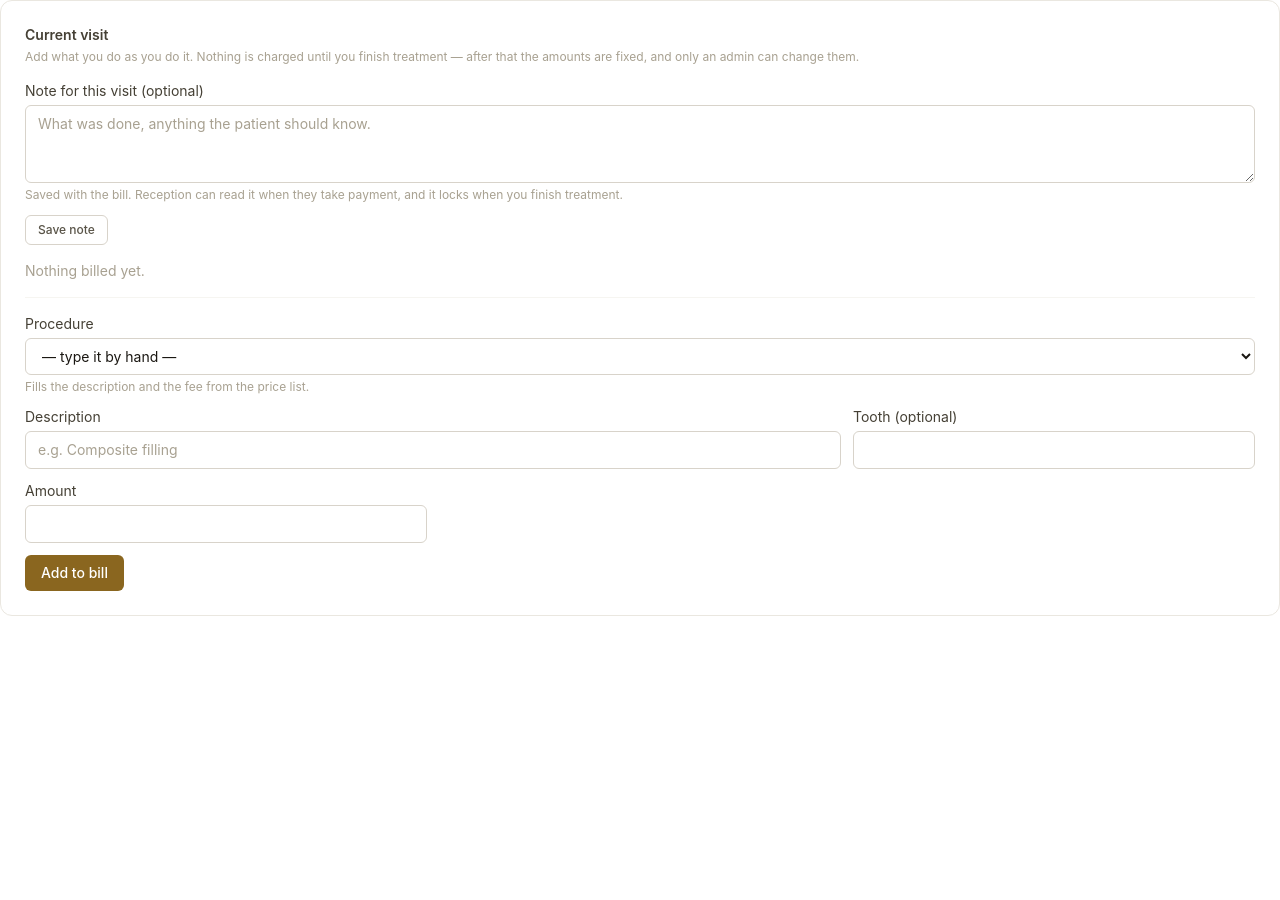
ChairsideBilling › surfaces a refusal from the database
The width and height of the screenshot is (1280, 900).
Expected: the text "Nothing billed yet." is shown, [25,262,145,279]
Type "Too late" into the field labelled "Description".
click(433, 450); type("Too late")  # box [25,431,841,469]
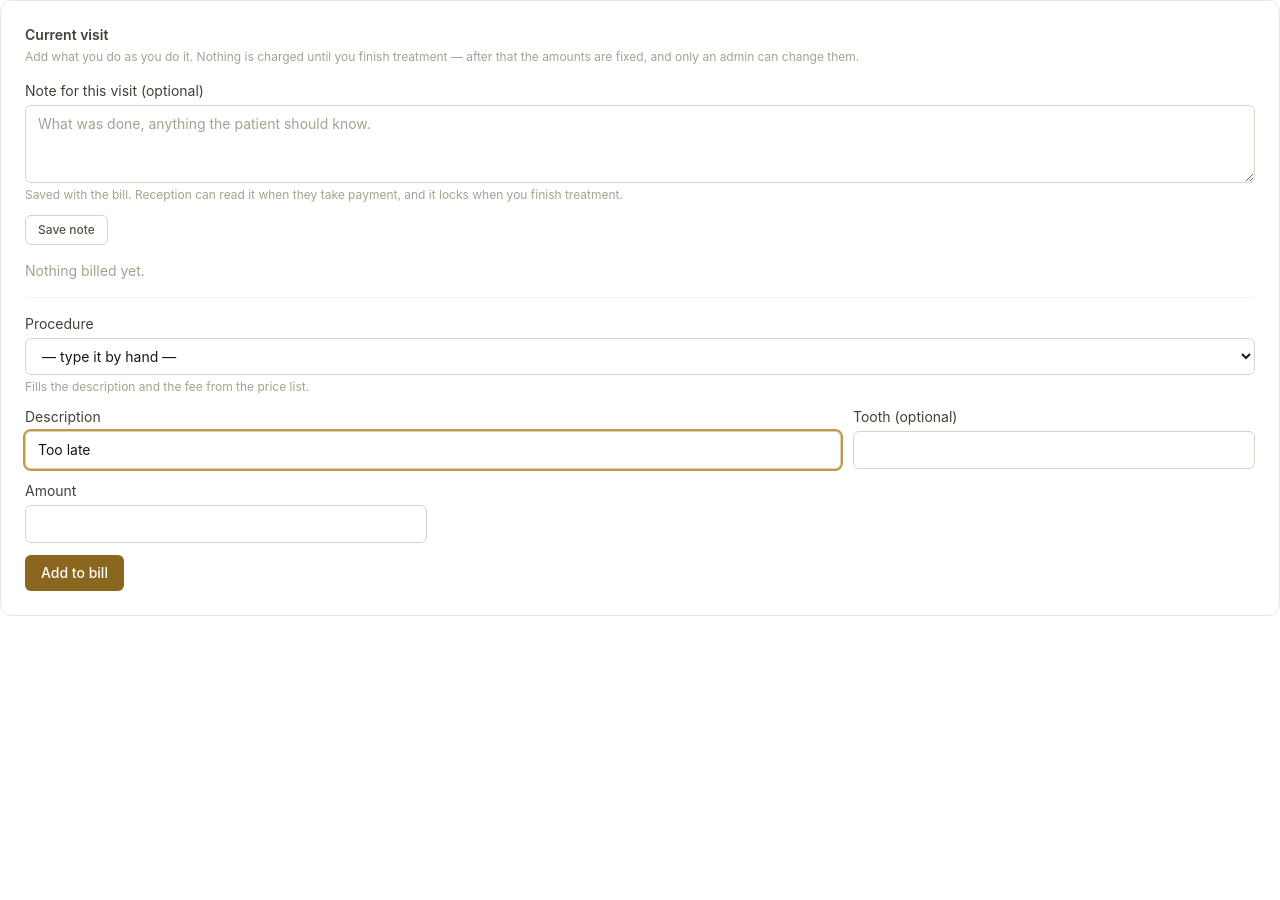
Type "500" into the number field labelled "Amount".
click(226, 524); type("500")  # box [25,505,427,543]
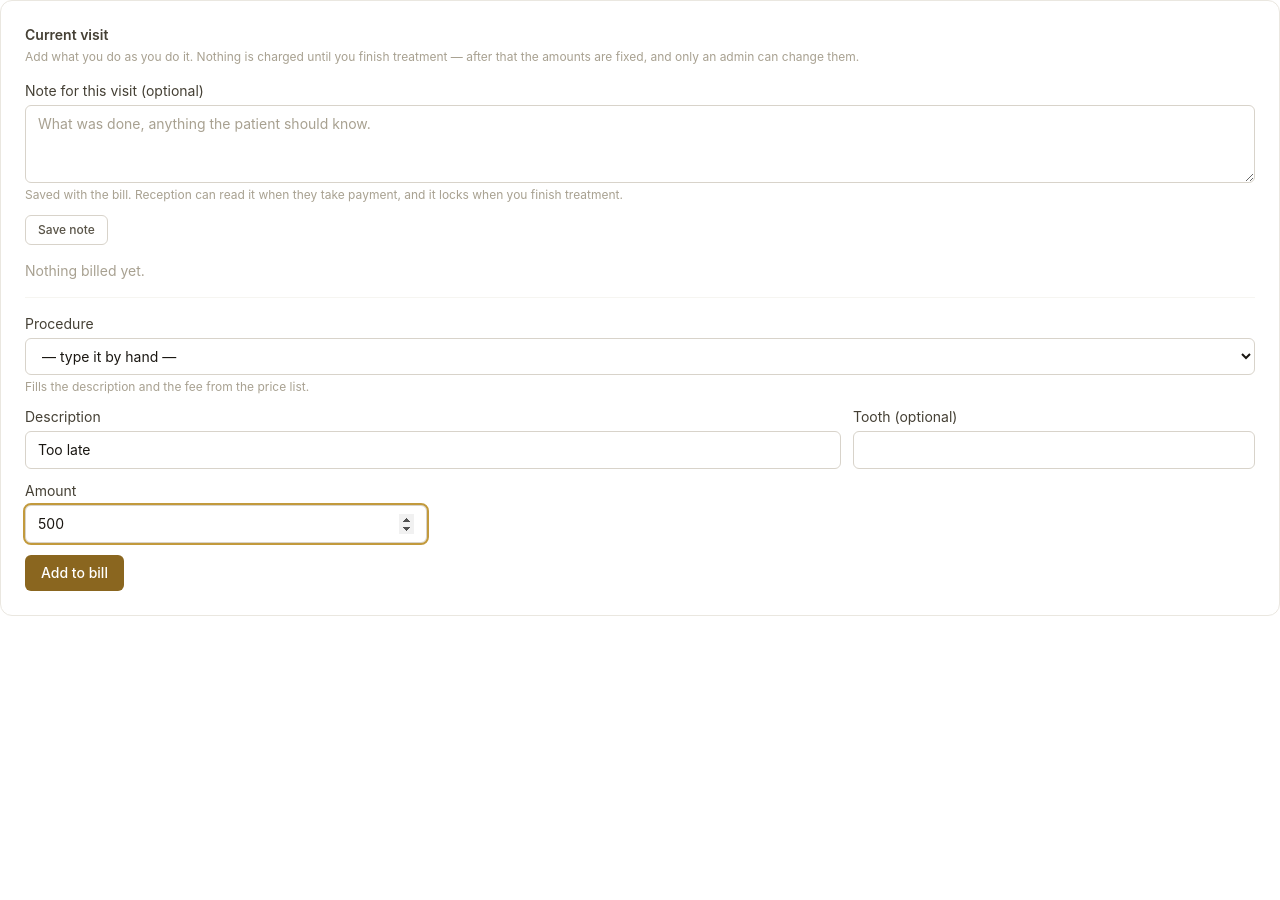
Click the button "Add to bill".
click(74, 573)  # box [25,555,124,591]
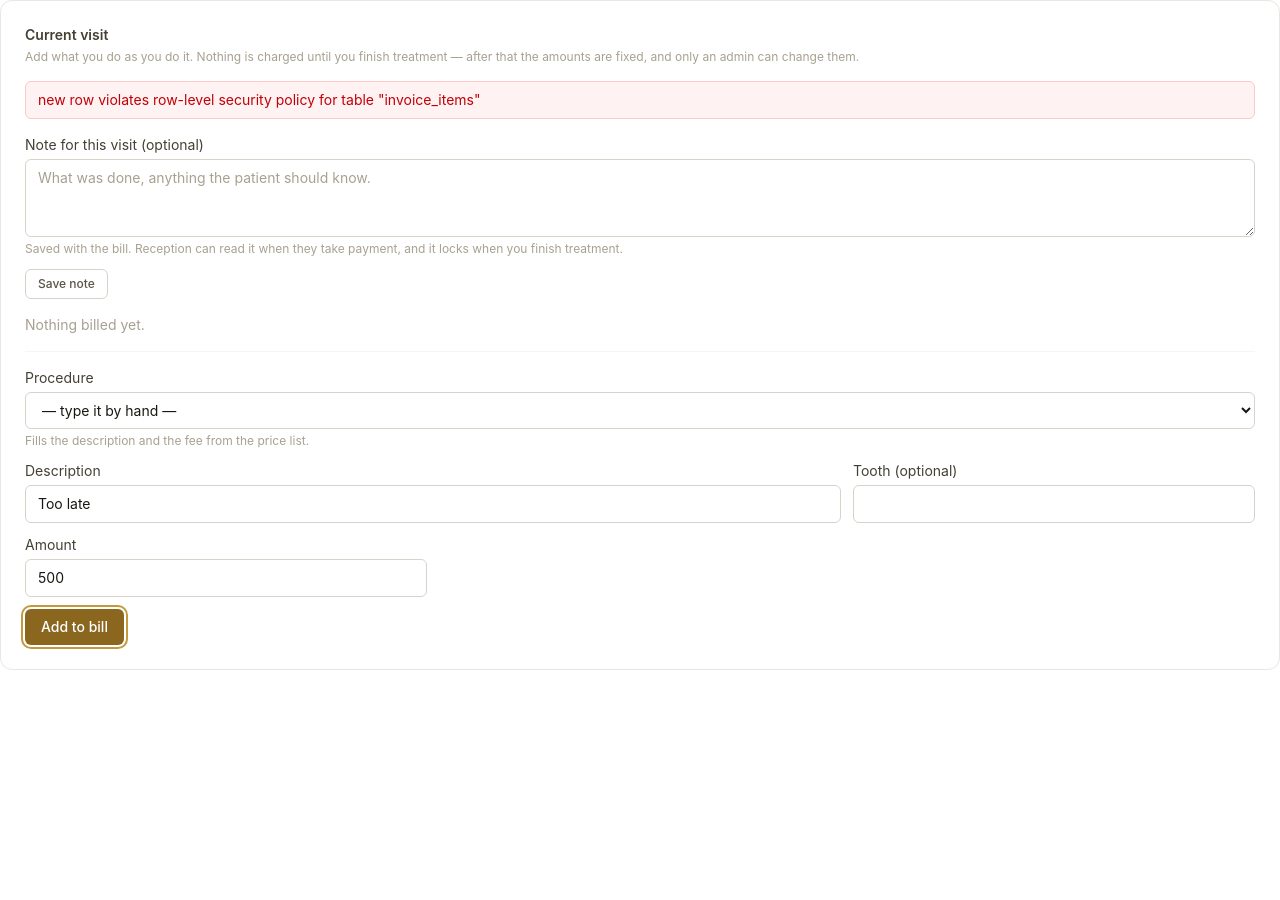
Now the message shows "row-level security", box [38,91,480,108]
